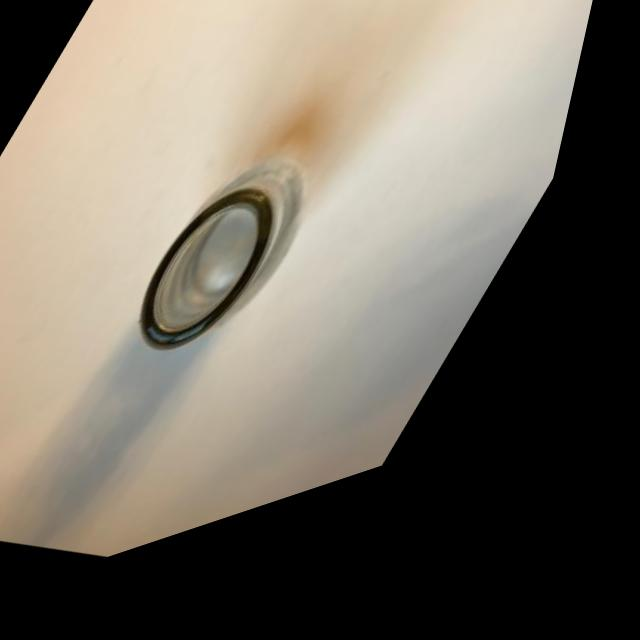glass: (22, 70, 422, 524)
